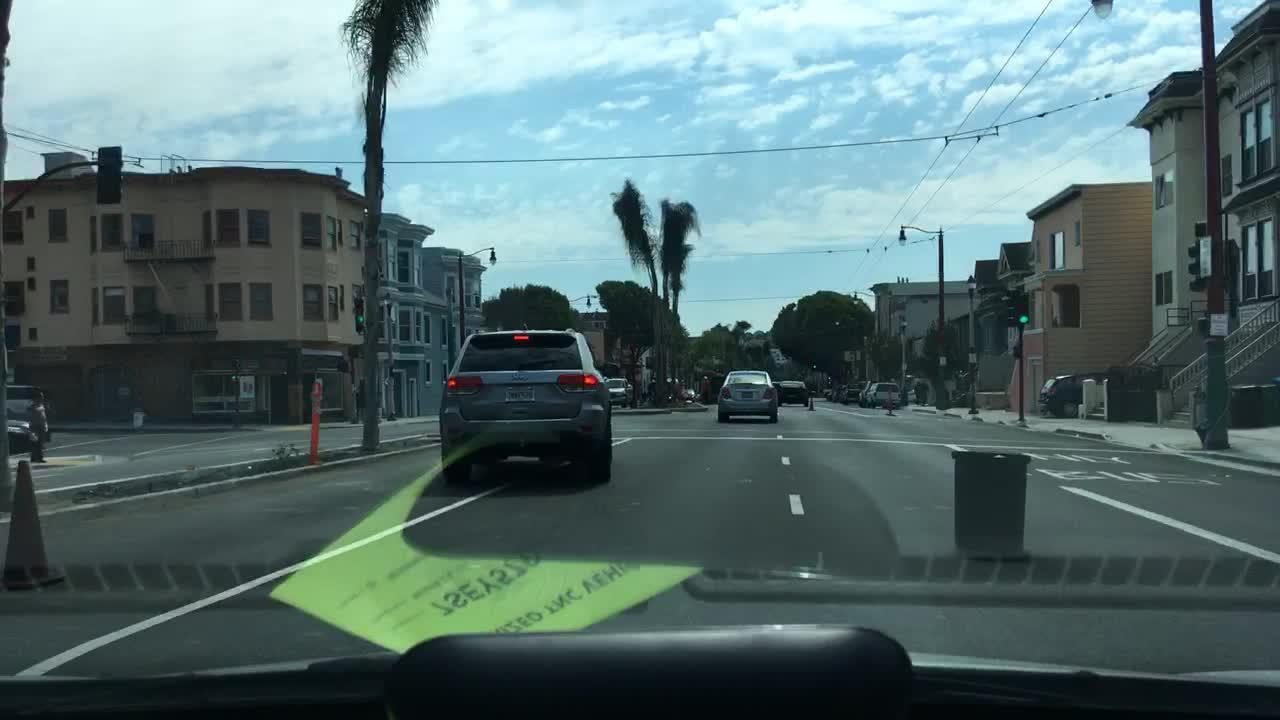jeep: (508, 371, 531, 384)
